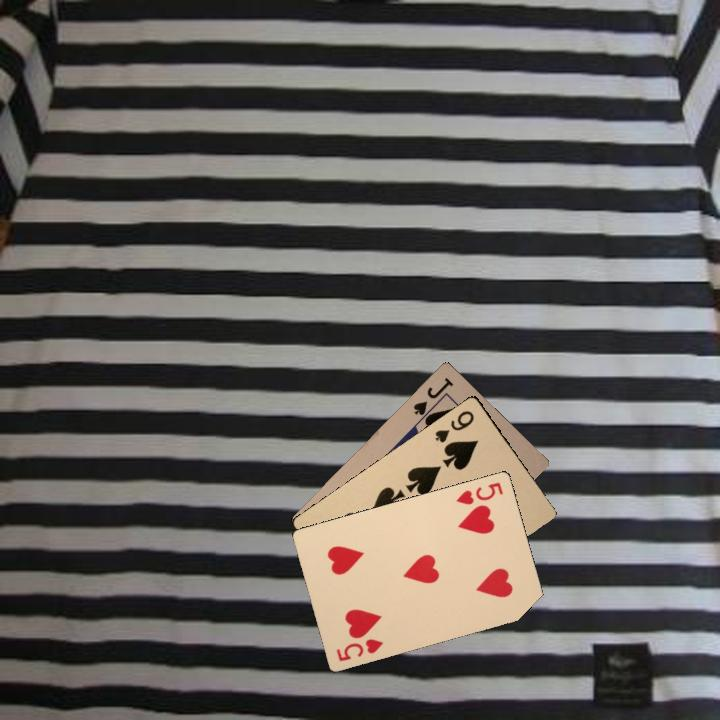5h: (332, 635, 386, 664), (452, 478, 505, 507)
9s: (431, 406, 477, 445)
Js: (409, 373, 456, 422)
